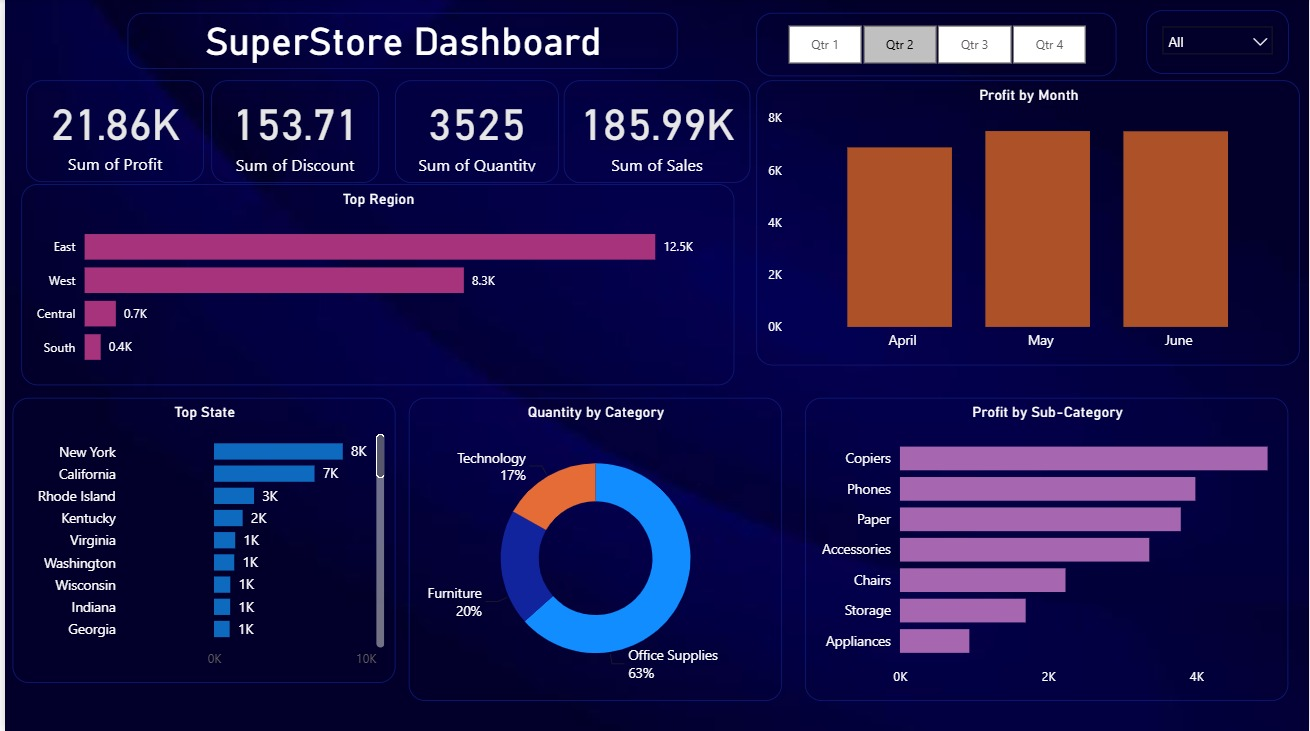

What the dashboard file says about the page in this screenshot:
{"tool":"powerbi","page":{"name":"Page 1","canvas":[1280,720],"ordinal":0},"visuals":[{"type":"columnChart","title":"Profit by Month","fields":{"Category":["FactSales.Order Date.Variation.Date Hierarchy.Month"],"Y":["Sum(DimProducts.Profit)"]},"box":[736.9,79.6,533.8,279.9],"z":0},{"type":"barChart","title":"Profit by Sub-Category","fields":{"Category":["DimProducts.Sub-Category"],"Y":["Sum(DimProducts.Profit)"]},"box":[784.9,391.1,474.8,297.8],"z":1000},{"type":"donutChart","title":" Quantity by Category","fields":{"Category":["DimProducts.Category"],"Y":["Sum(DimProducts.Quantity)"]},"box":[396.6,391.1,366.4,297.8],"z":2000},{"type":"barChart","title":"Top State","fields":{"Category":["FactSales.State"],"Y":["Sum(DimProducts.Profit)"]},"box":[6.9,391.1,376,279.9],"z":3000},{"type":"card","fields":{"Values":["Sum(DimProducts.Profit)"]},"box":[20.6,79.6,174.3,100.2],"z":4000},{"type":"card","fields":{"Values":["Sum(DimProducts.Discount)"]},"box":[202.5,79.8,164.4,100.6],"z":5000},{"type":"card","fields":{"Values":["Sum(DimProducts.Quantity)"]},"box":[382.8,79.8,160.7,100.6],"z":6000},{"type":"card","fields":{"Values":["Sum(DimProducts.Sales)"]},"box":[548.5,79.8,182.8,100.6],"z":7000},{"type":"clusteredBarChart","title":"Top Region","fields":{"Category":["FactSales.Region"],"Y":["Sum(DimProducts.Profit)"]},"box":[16.5,181.1,699.8,197.6],"z":8000},{"type":"textbox","title":"SuperStore Dashboard","box":[120.2,13.5,539.9,55.2],"z":9000},{"type":"slicer","fields":{"Values":["FactSales.Order Date.Variation.Date Hierarchy.Quarter"]},"box":[737.4,13.5,353.4,62.6],"z":10000},{"type":"slicer","fields":{"Values":["FactSales.State"]},"box":[1120.3,11,139.9,62.6],"z":11000}]}

Visuals, with their boxes in screenshot pixels (x1, y1, x2, y2), scaled from the page's 1280x720 canvas onto the 1310x731 screenshot:
"Profit by Month" columnChart: 754 81 1300 365
"Profit by Sub-Category" barChart: 803 397 1289 699
" Quantity by Category" donutChart: 406 397 781 699
"Top State" barChart: 7 397 392 681
card - Sum(DimProducts.Profit): 21 81 199 183
card - Sum(DimProducts.Discount): 207 81 375 183
card - Sum(DimProducts.Quantity): 392 81 556 183
card - Sum(DimProducts.Sales): 561 81 748 183
"Top Region" clusteredBarChart: 17 184 733 384
"SuperStore Dashboard" textbox: 123 14 676 70
slicer - FactSales.Order Date.Variation.Date Hierarchy.Quarter: 755 14 1116 77
slicer - FactSales.State: 1147 11 1290 75
